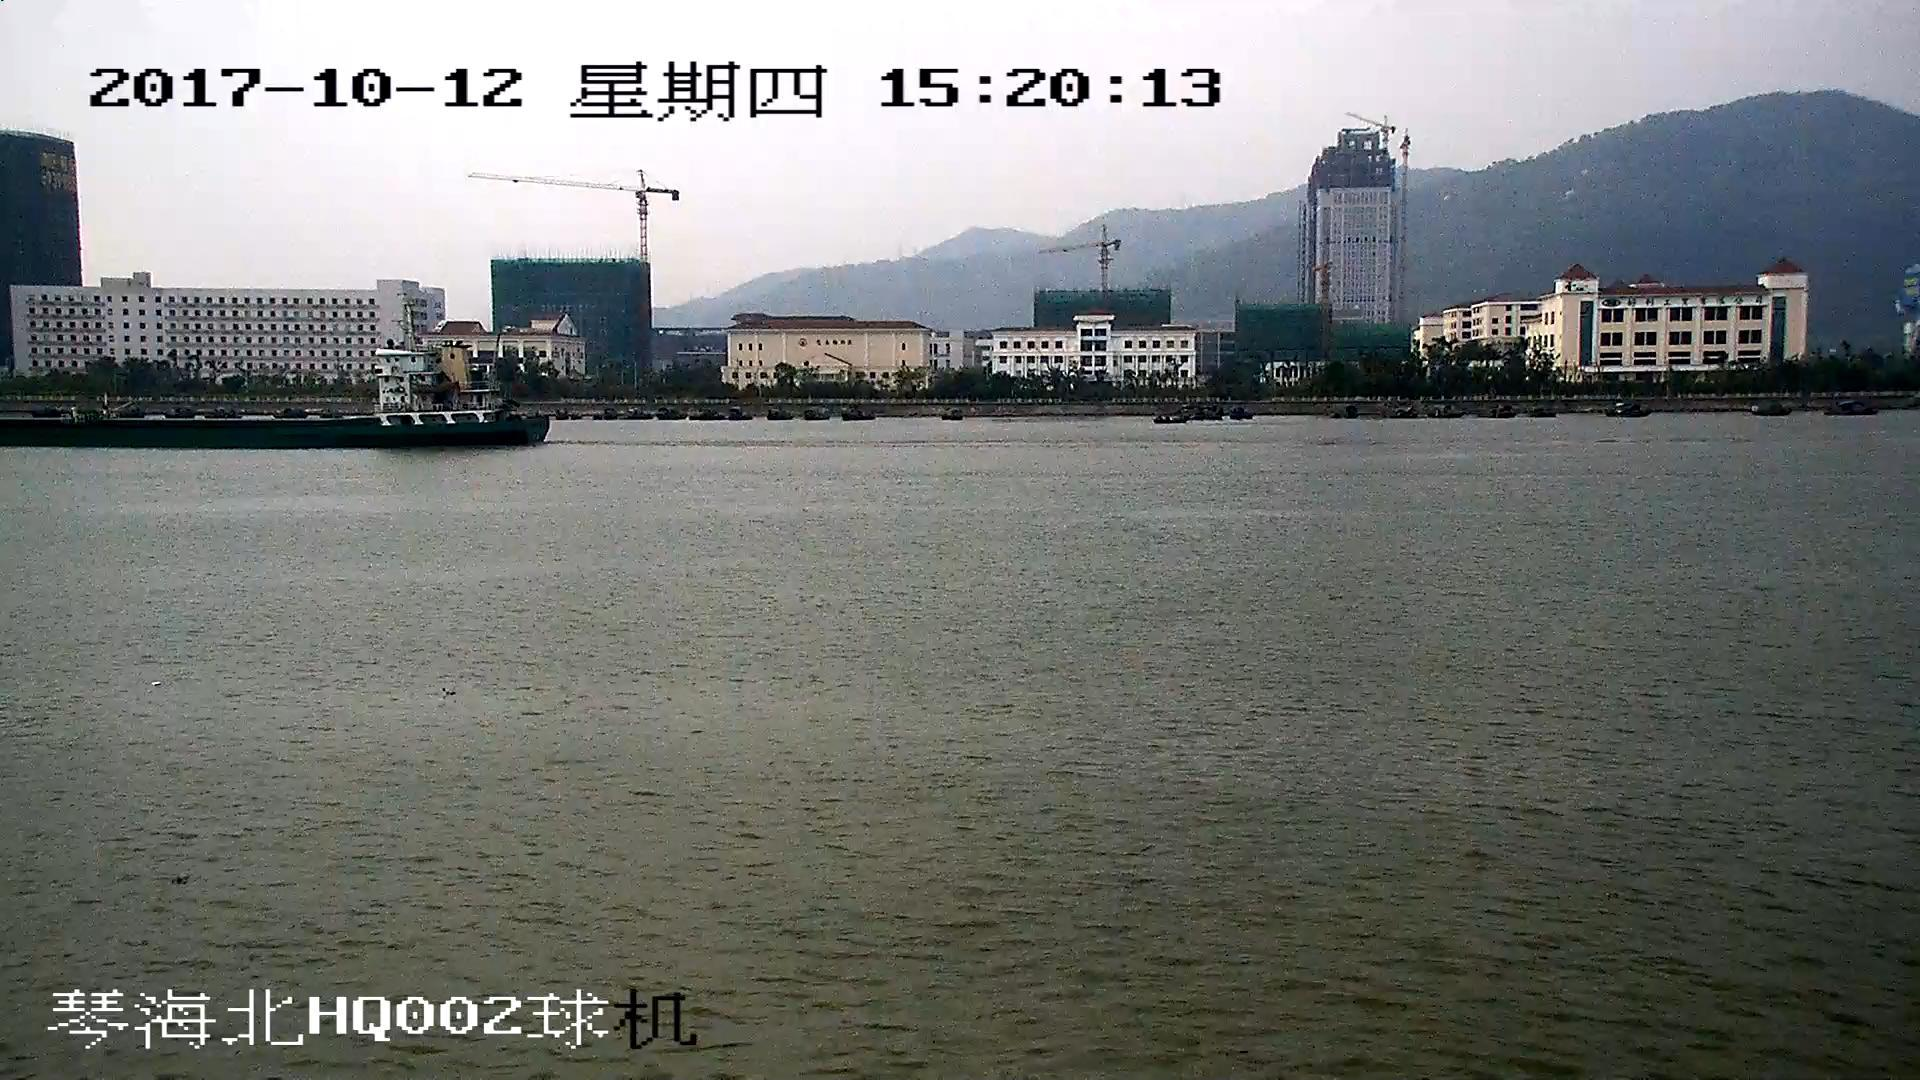Ship: (3, 348, 553, 450)
